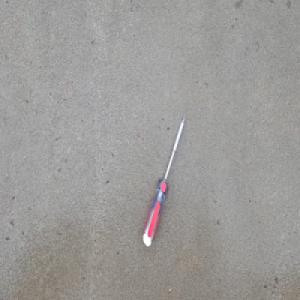Screwdriver: (141, 111, 187, 248)
